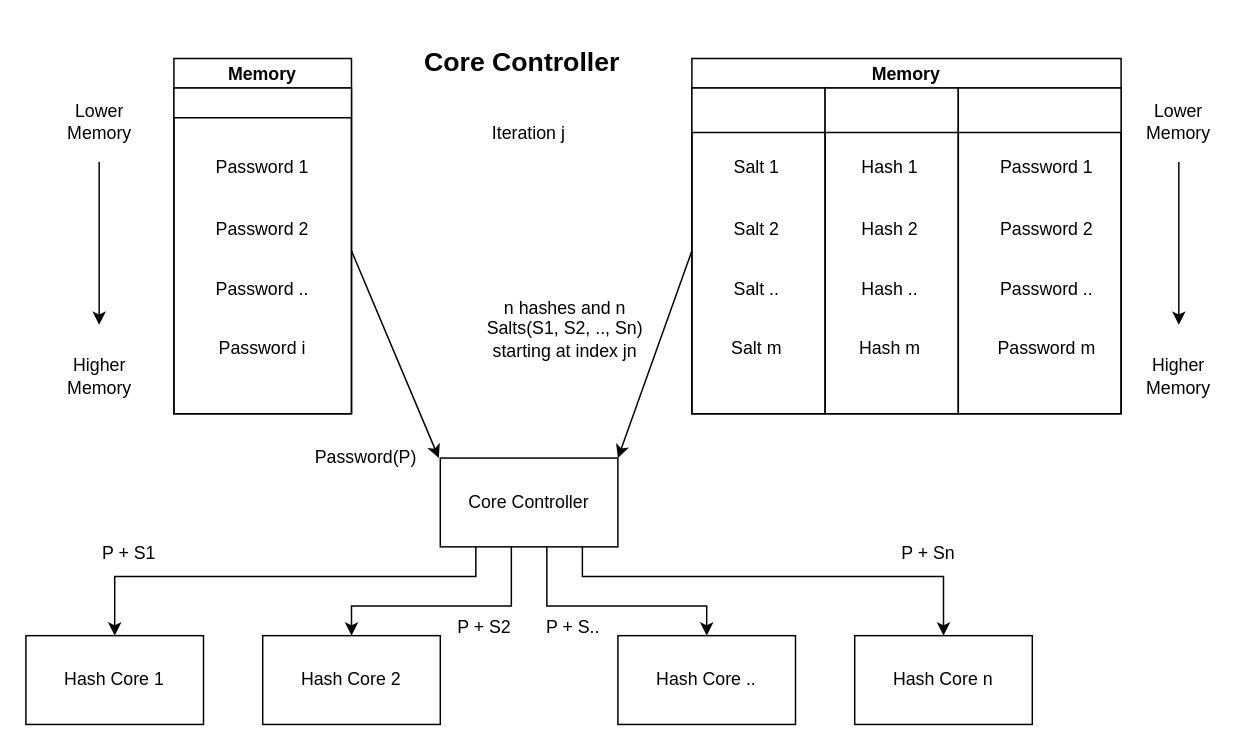
Some shapes in this 1249 by 750 pixel diagram are drawn without their labels. Here are the shapes that lost their labels. From the top down, the box of each, then its label:
(172, 87, 352, 414): Password (40 bytes)
(690, 87, 825, 414): Salt (16 bytes)
(824, 87, 958, 414): Hash (32 bytes)
(957, 87, 1121, 414): Found Password (40 bytes)
